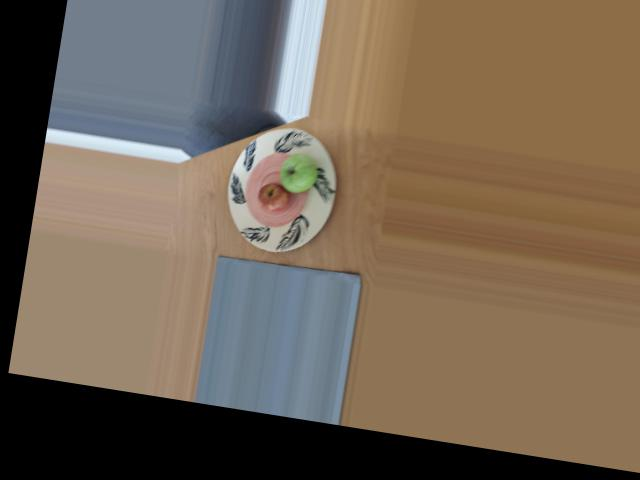apple: (277, 149, 324, 196)
